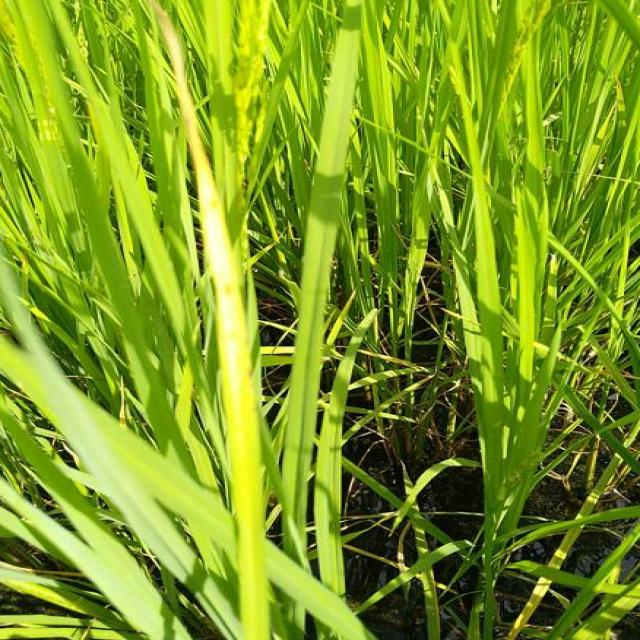Leaf Blight: (153, 3, 271, 640)
